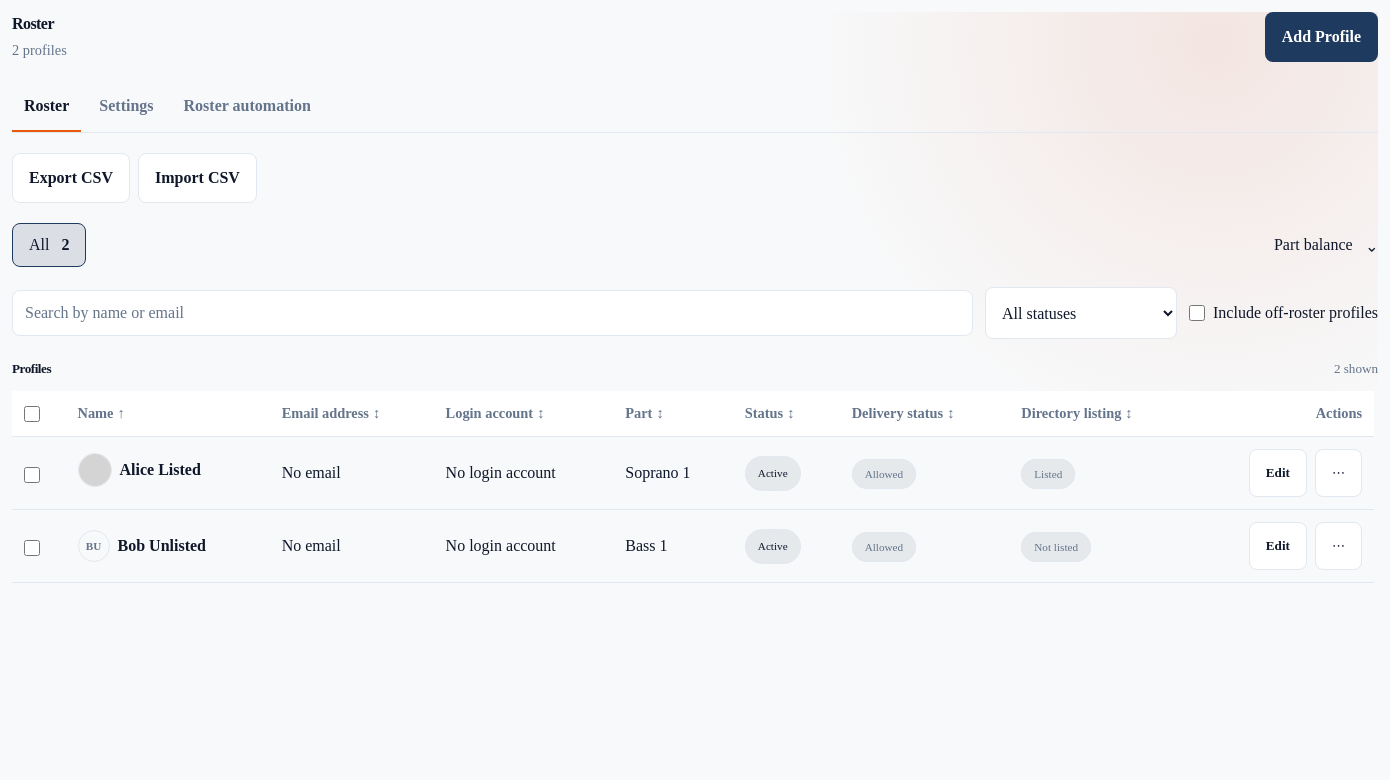
Scenario: Roster Directory Clarification and Compact Photos (#240) › allows returning an off-roster profile to the roster with Return to roster action
The image size is (1390, 780).
Check "Include off-roster profiles"
Click the checkbox labelled "Include off-roster profiles". click: (1197, 313)
box: [1189,305,1205,321]
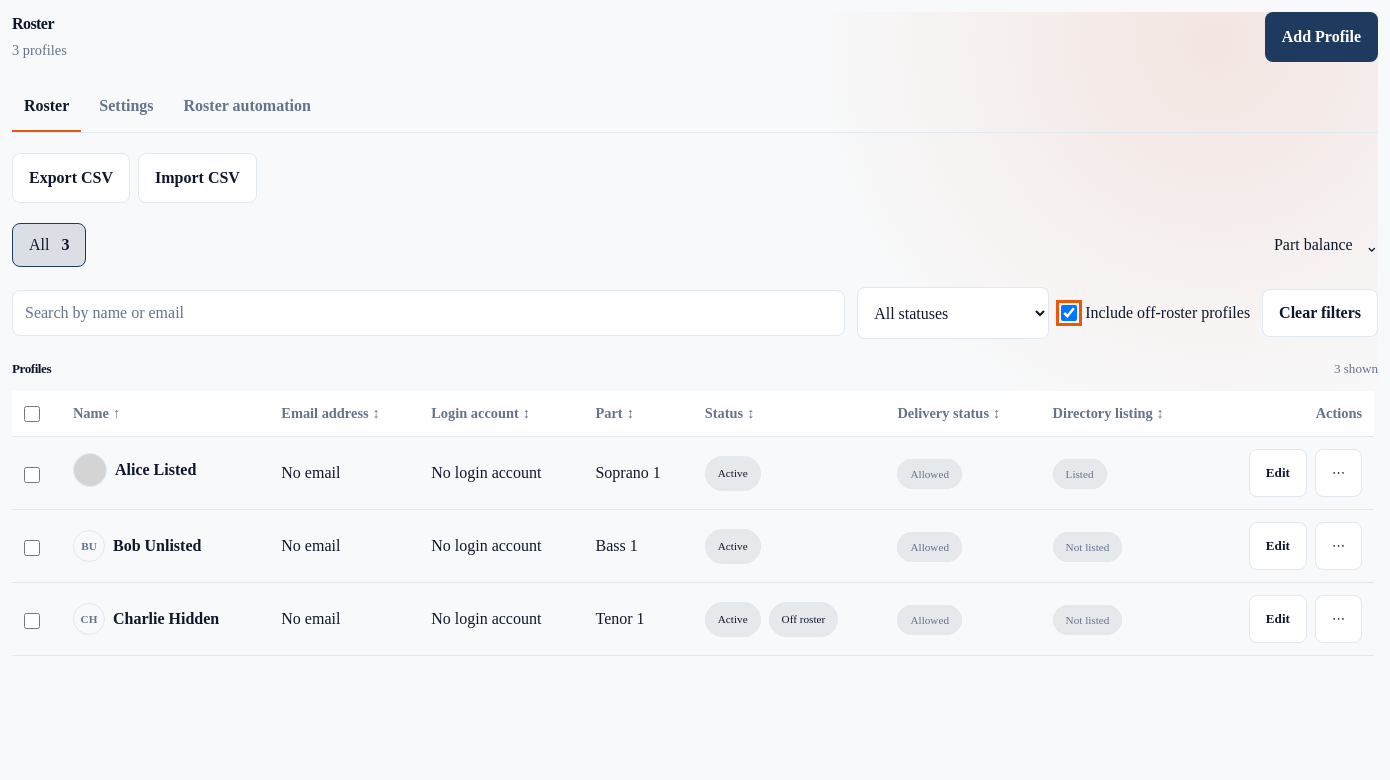
Expected: the text "Charlie Hidden" is shown, [113,610,219,627]
Expected: the text "Off roster" is shown, [769,602,838,637]
Expected: the text titled "Not listed: off roster" in the row of "Charlie Hidden" is shown, [1052,605,1122,635]
Click the button named "More actions for Charlie Hidden". click: (1338, 619)
box: [1315,595,1362,643]
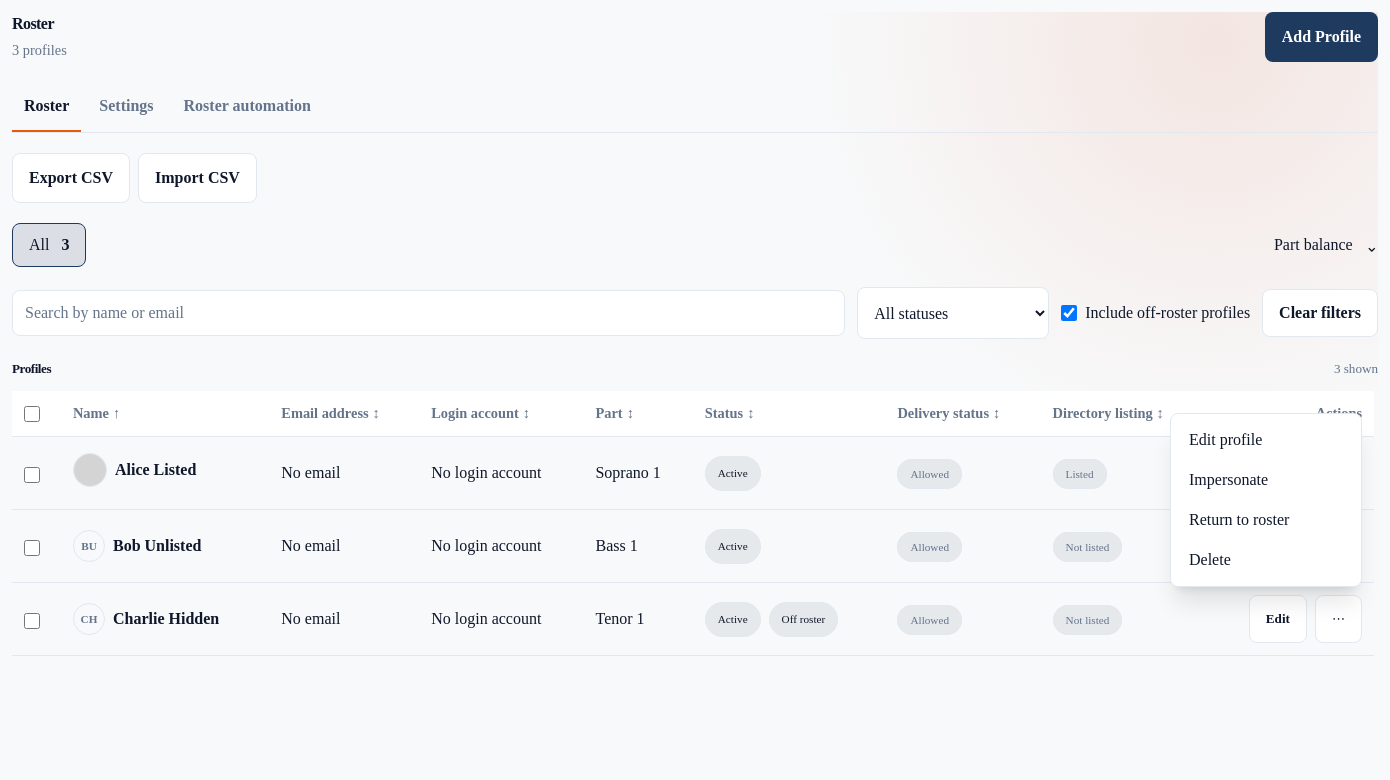
Expected: the menu item "Return to roster" is shown
Click the menu item "Return to roster". click: (1266, 520)
box: [1177,500,1355,540]
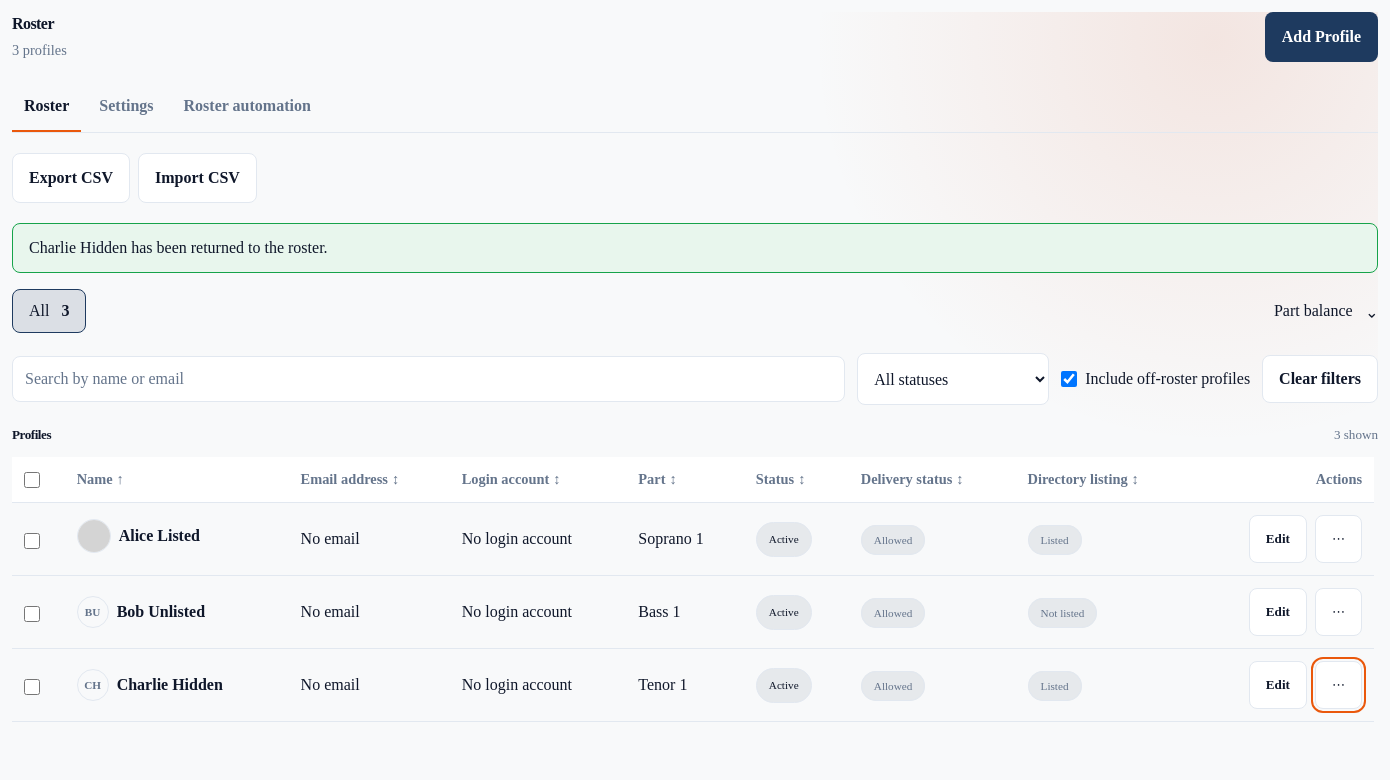
Expected: the text "Charlie Hidden has been returned to the roster." is shown, [12,223,1378,273]
